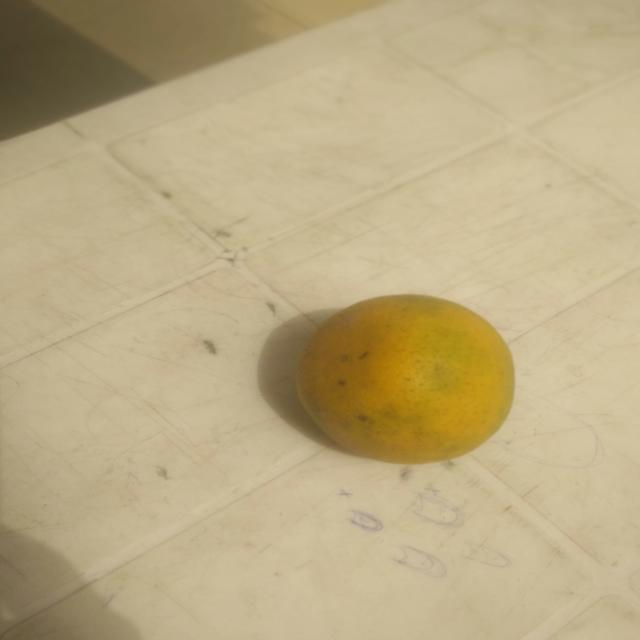Ripe orange: (280, 265, 528, 496)
